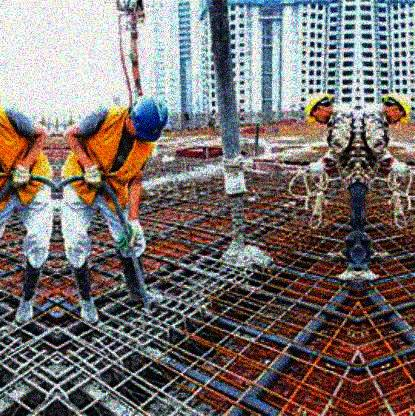helmet: (123, 94, 169, 143), (307, 92, 337, 124), (382, 92, 411, 125)
